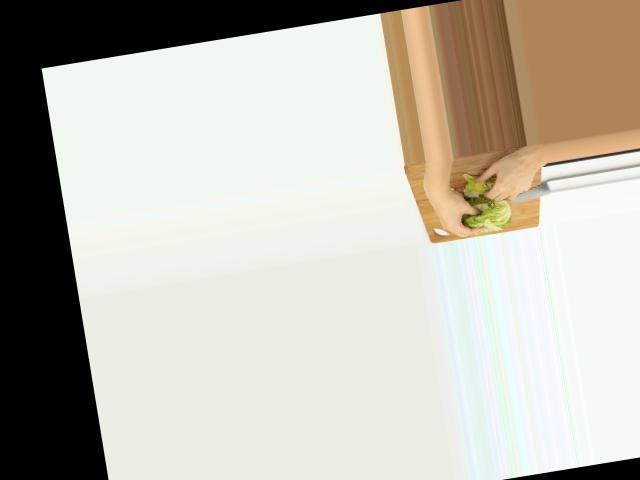lettuce: (461, 194, 514, 234)
